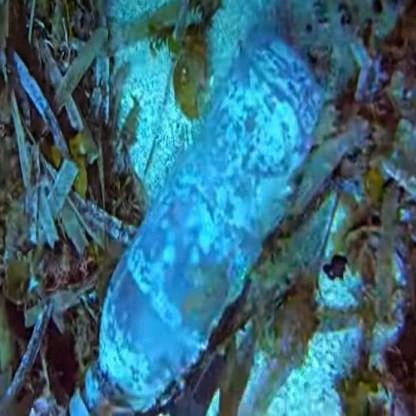pbottle: (108, 61, 309, 407)
